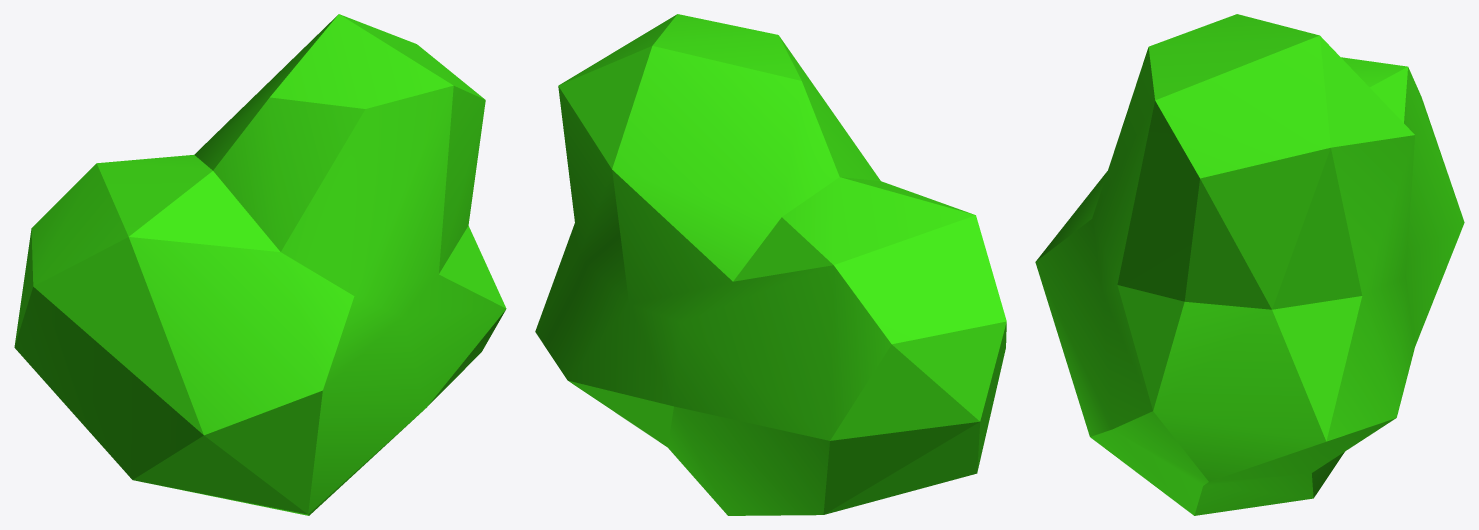
Rendered from Mato 1.fbx.
The picture shows the model from 3 angles, left to right: view 1: azimuth 30°, elevation 25°; view 2: azimuth 150°, elevation 25°; view 3: azimuth 270°, elevation 25°; orthographic projection. The views are drawn at different scales.
Visible parts, largest first — view 1: Mato 1; view 2: Mato 1; view 3: Mato 1.
Boxes of the visible parts, bbox=[...] form: Mato 1: bbox=[14, 14, 506, 515]; Mato 1: bbox=[535, 14, 1006, 515]; Mato 1: bbox=[1035, 14, 1464, 515].
Bounding box in the file's own units: 179 × 180 × 132.
